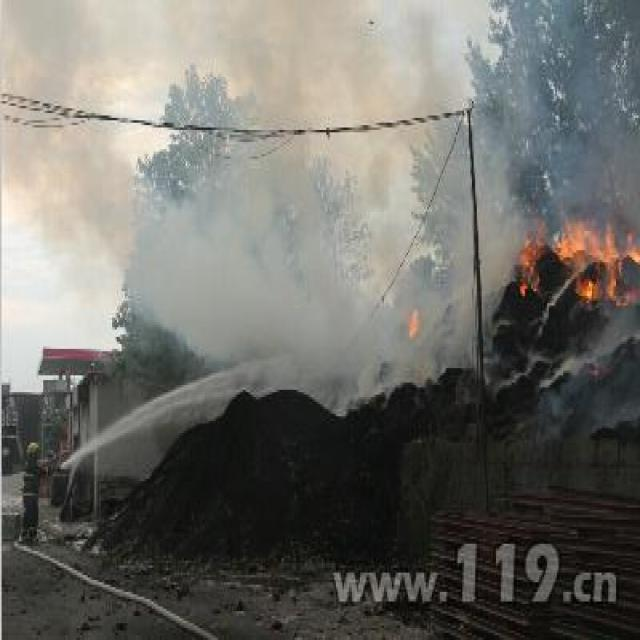fire: (514, 210, 638, 306), (405, 306, 419, 334)
smoke: (0, 0, 640, 415)
